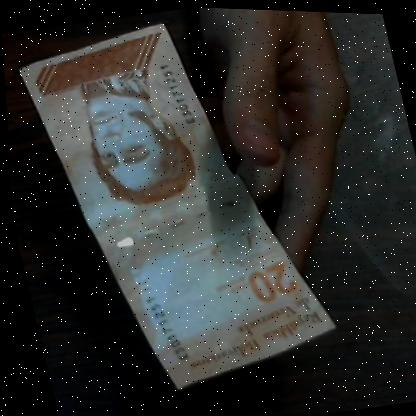twenty-front-vef: (0, 0, 389, 413)
